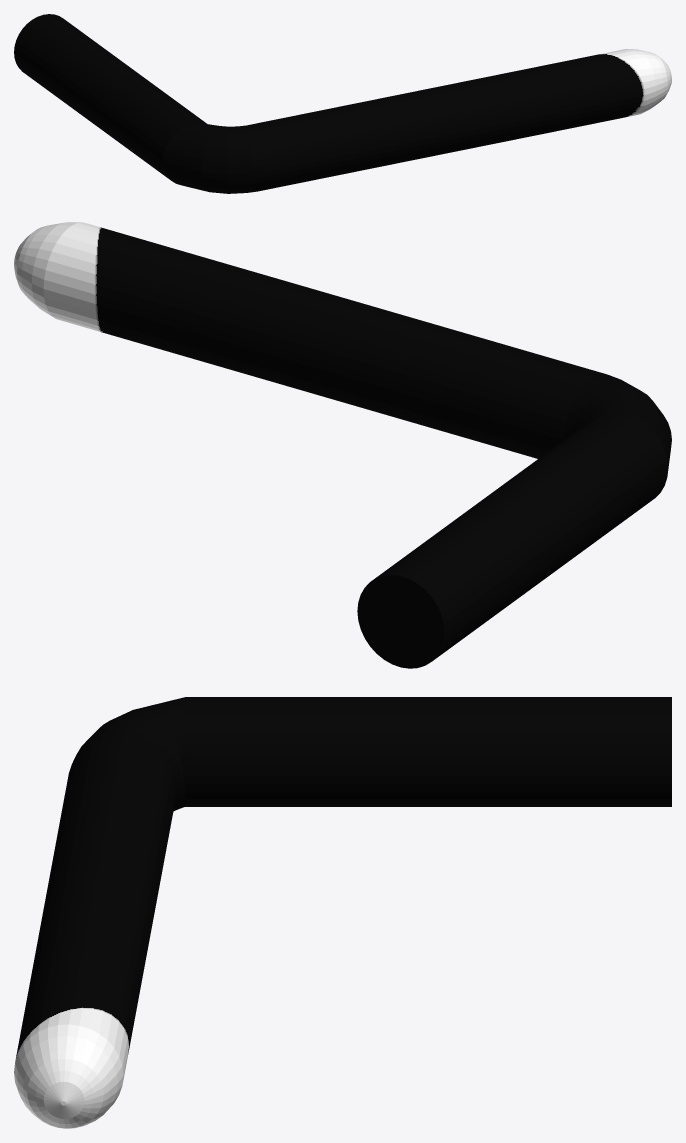
Rendered from ring.obj.
3 views of the same model, one above another, from view 1: azimuth 30°, elevation 25°; view 2: azimuth 150°, elevation 25°; view 3: azimuth 270°, elevation 25° (orthographic). The views are drawn at different scales.
Visible parts, largest first — view 1: campanaPalito_Mesh; view 2: campanaPalito_Mesh; view 3: campanaPalito_Mesh.
Part boxes in pixels (x1,y1,x2,y2): campanaPalito_Mesh: (14,14,671,193); campanaPalito_Mesh: (14,222,671,668); campanaPalito_Mesh: (14,697,671,1128).
Bounding box in the file's own units: 1.5 × 0.1857 × 1.11.
Materials: 1 (1 with a texture image).
